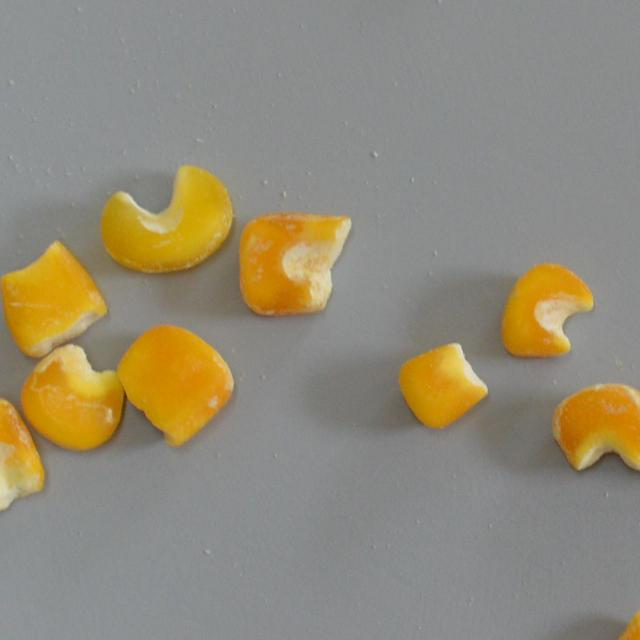no_canjicado: (0, 236, 105, 360), (497, 262, 592, 358), (396, 342, 488, 430)
pelicula: (116, 322, 234, 447), (100, 164, 234, 273), (238, 212, 351, 316), (16, 344, 122, 451), (549, 382, 640, 474), (0, 396, 44, 511)
